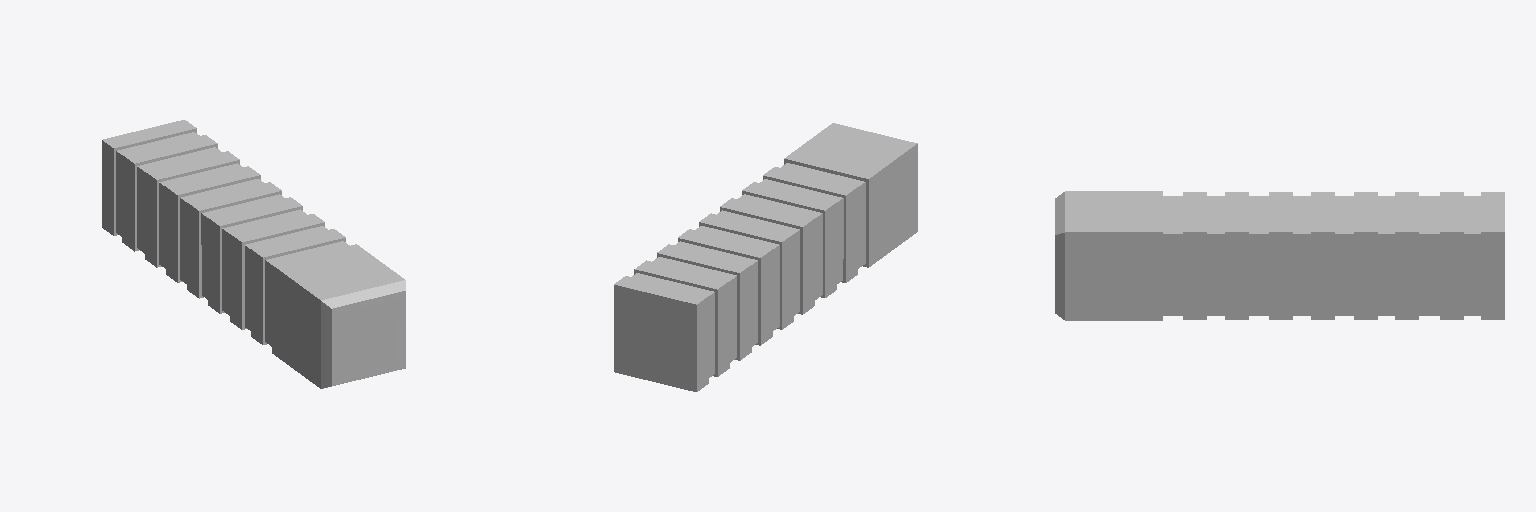
File: worm.obj
3 views of the same model, side by side, from view 1: azimuth 30°, elevation 25°; view 2: azimuth 150°, elevation 25°; view 3: azimuth 270°, elevation 25° (orthographic).
Parts seen in each view (by area): view 1: Box016, Box062, Box053, Box056, Box059, Box055, Box060, Box052, Box063, Box058, Box065, Box023 (+5 smaller); view 2: Box063, Box016, Box062, Box055, Box059, Box060, Box052, Box053, Box056, Box058, Box023, Box065 (+5 smaller); view 3: Box016, Box053, Box055, Box056, Box059, Box060, Box062, Box063, Box052, Box065, Box058, Box023 (+5 smaller).
Part boxes in pixels (left/top/right/bottom): Box016: left=272, top=244, right=405, bottom=388; Box062: left=122, top=135, right=217, bottom=251; Box053: left=230, top=214, right=324, bottom=329; Box056: left=187, top=182, right=281, bottom=298; Box059: left=165, top=166, right=260, bottom=282; Box055: left=208, top=197, right=302, bottom=313; Box060: left=145, top=151, right=239, bottom=267; Box052: left=251, top=229, right=345, bottom=344; Box063: left=102, top=120, right=196, bottom=235; Box058: left=222, top=209, right=306, bottom=315; Box065: left=137, top=147, right=221, bottom=253; Box023: left=265, top=241, right=349, bottom=346; Box063: left=614, top=276, right=708, bottom=391; Box016: left=784, top=123, right=917, bottom=267; Box062: left=634, top=260, right=729, bottom=376; Box055: left=720, top=198, right=814, bottom=314; Box059: left=678, top=229, right=772, bottom=345; Box060: left=657, top=244, right=751, bottom=360; Box052: left=763, top=167, right=857, bottom=282; Box053: left=742, top=182, right=836, bottom=297; Box056: left=699, top=213, right=793, bottom=329; Box058: left=738, top=194, right=822, bottom=299; Box023: left=781, top=163, right=865, bottom=268; Box065: left=652, top=257, right=736, bottom=362; Box016: left=1055, top=191, right=1162, bottom=320; Box053: left=1225, top=192, right=1248, bottom=319; Box055: left=1269, top=192, right=1292, bottom=319; Box056: left=1311, top=192, right=1334, bottom=319; Box059: left=1354, top=192, right=1377, bottom=319; Box060: left=1395, top=192, right=1418, bottom=319; Box062: left=1440, top=192, right=1463, bottom=319; Box063: left=1481, top=192, right=1504, bottom=319; Box052: left=1183, top=192, right=1206, bottom=319; Box065: left=1419, top=196, right=1439, bottom=315; Box058: left=1249, top=196, right=1268, bottom=315; Box023: left=1163, top=196, right=1182, bottom=315.
Size of the model in its own units: 78.74 by 78.74 by 363.